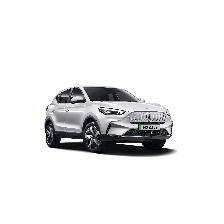EV: (45, 85, 173, 152)
